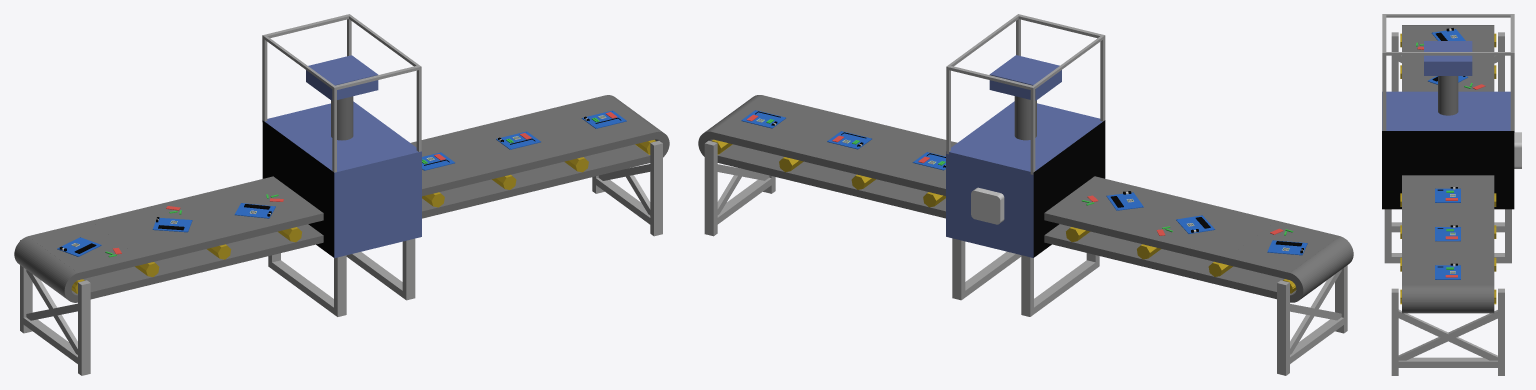
File: accuracy3.glb
3 views of the same model, side by side, from view 1: azimuth 30°, elevation 25°; view 2: azimuth 150°, elevation 25°; view 3: azimuth 270°, elevation 25° (orthographic). The views are drawn at different scales.
Parts seen in each view (by area): view 1: belt_start, machine, machine.002, foot3, Cube, foot3.001, press_cube, foot3.002, foot2.005, foot3.003, press_cylindre, foot2.002; view 2: belt_start, machine, machine.002, foot3, Cube, foot3.001, press_cube, machine.004, foot3.002, foot2.006, foot3.003, press_cylindre (+1 smaller); view 3: belt_start, machine.001, machine, foot3.001, Cube, press_cube, foot3, press_cylindre, foot2.005, board2, board1, board3 (+5 smaller).
Boxes of the visible parts, x1,y1,x2,y2 form: belt_start: (14,95,669,302); machine: (265,101,421,258); machine.002: (262,120,334,257); foot3: (20,240,90,375); Cube: (262,14,421,172); foot3.001: (592,141,662,236); press_cube: (306,55,378,100); foot3.002: (272,260,333,314); foot2.005: (402,238,415,300); foot3.003: (346,252,402,297); press_cylindre: (331,96,353,140); foot2.002: (334,255,346,316); belt_start: (698,95,1353,302); machine: (946,101,1102,257); machine.002: (1033,120,1105,257); foot3: (1277,240,1347,375); Cube: (946,14,1105,174); foot3.001: (704,140,775,236); press_cube: (989,55,1061,100); machine.004: (971,187,1004,224); foot3.002: (1034,260,1095,313); foot2.006: (952,238,965,300); foot3.003: (965,251,1021,297); press_cylindre: (1014,96,1036,140); belt_start: (1400,25,1496,313); machine.001: (1382,131,1514,209); machine: (1382,91,1510,130); foot3.001: (1391,288,1504,375); Cube: (1382,14,1514,132); press_cube: (1424,41,1472,75); foot3: (1391,32,1504,91); press_cylindre: (1438,76,1458,115); foot2.005: (1384,209,1391,263); board2: (1435,225,1460,241); board1: (1435,263,1460,279); board3: (1435,187,1460,202).
Size of the model in its own units: 8.46 by 3.09 by 1.84.
